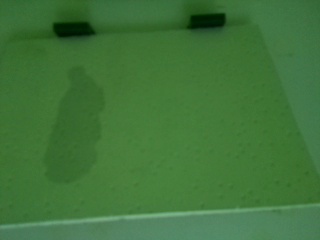Water_detected: (65, 83, 116, 178)
